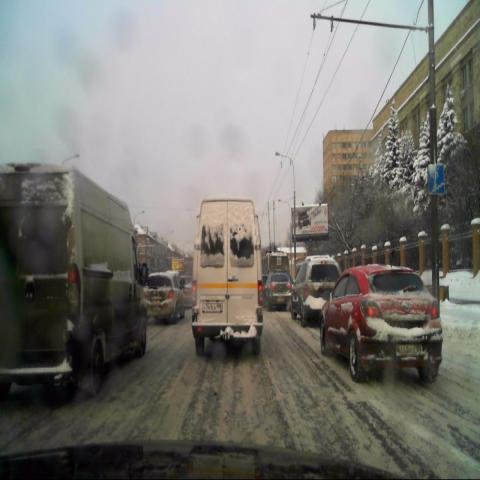6_6: (428, 165, 446, 196)
